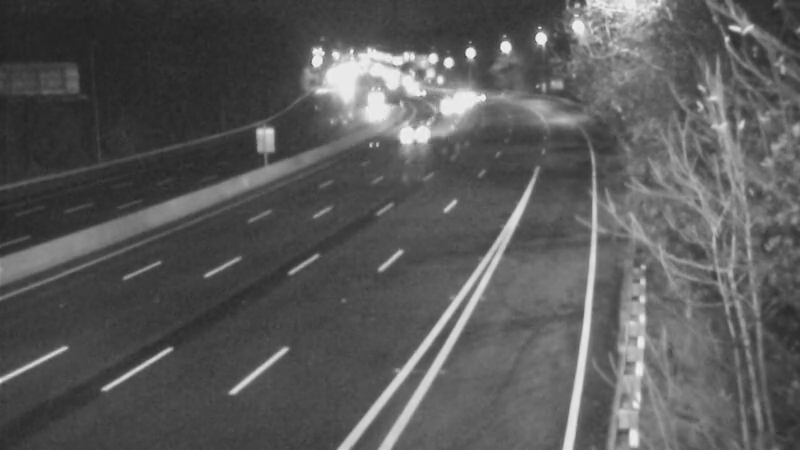vehicle: (438, 73, 488, 123), (451, 73, 501, 123), (423, 84, 473, 134), (391, 107, 441, 157), (351, 77, 401, 127)
